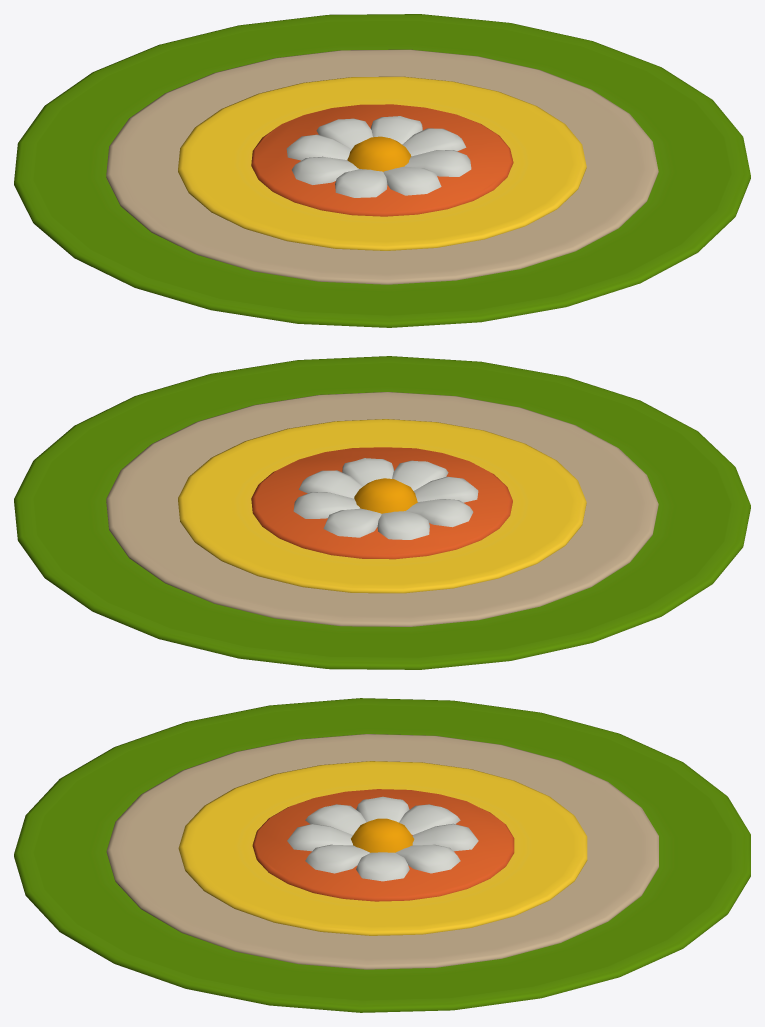
File: carpet1.fbx
3 views of the same model, one above another, from view 1: azimuth 30°, elevation 25°; view 2: azimuth 150°, elevation 25°; view 3: azimuth 270°, elevation 25° (orthographic).
Visible parts, largest first — view 1: carpet1; view 2: carpet1; view 3: carpet1.
Boxes of the visible parts, box(x1,y1,x2,y2) form: carpet1: box(14, 14, 750, 327); carpet1: box(14, 356, 750, 669); carpet1: box(14, 698, 750, 1012).
Size of the model in its own units: 1.63 by 0.0752 by 1.63.
